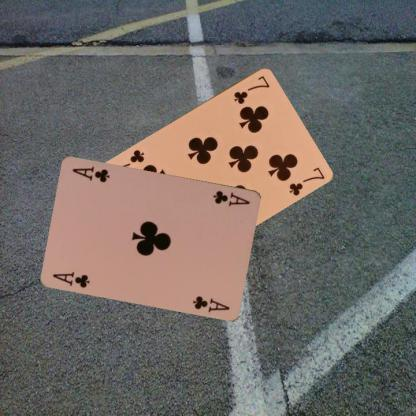7c: (231, 73, 271, 105)
Ac: (51, 269, 92, 289), (211, 188, 251, 207)
